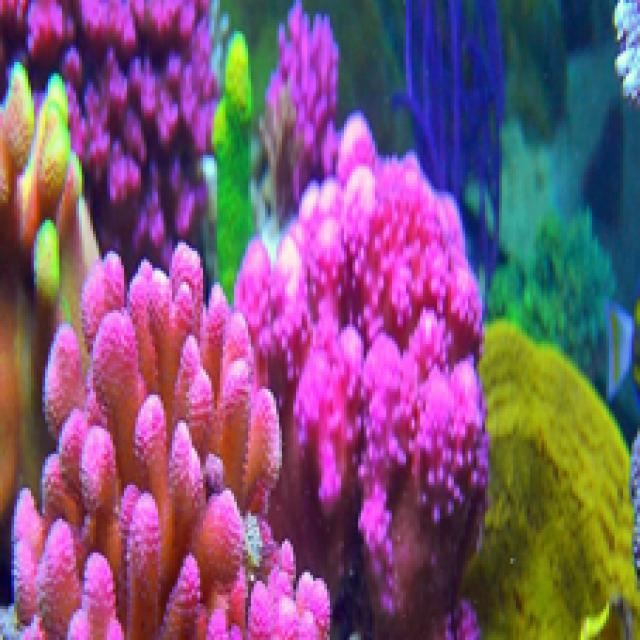Healthy: (15, 119, 494, 638), (463, 320, 638, 638), (26, 4, 218, 238), (1, 63, 97, 517)
